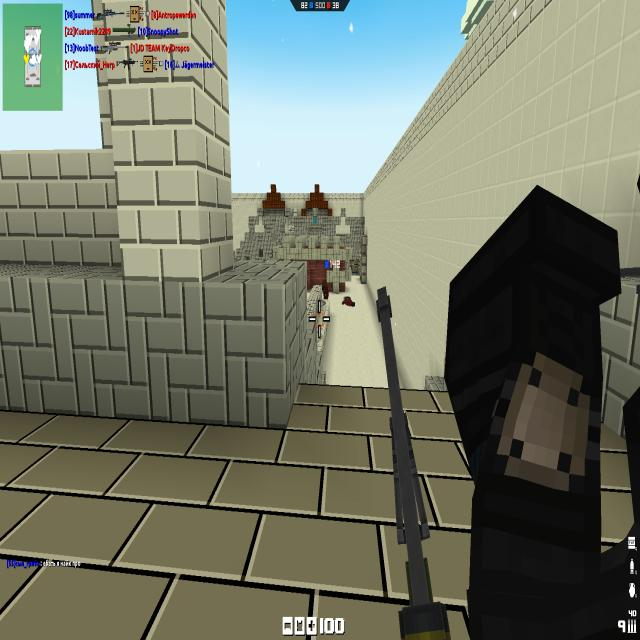player: (445, 184, 633, 640), (342, 295, 355, 307), (322, 281, 329, 300)
